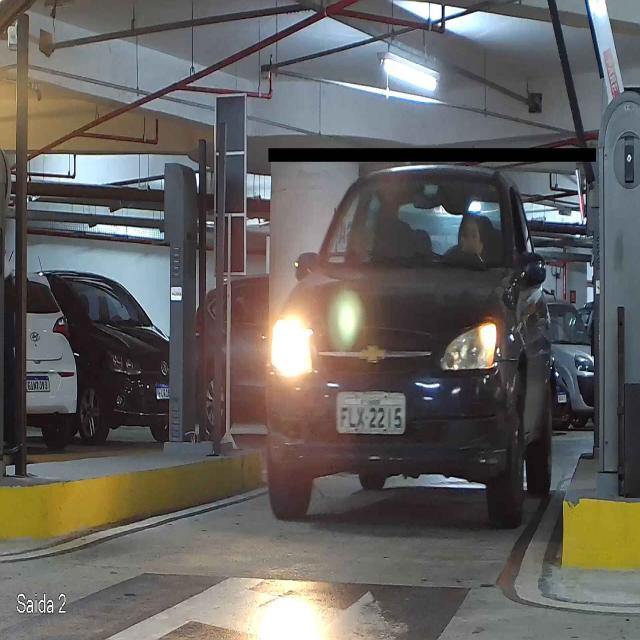old_plate: (334, 390, 408, 436)
